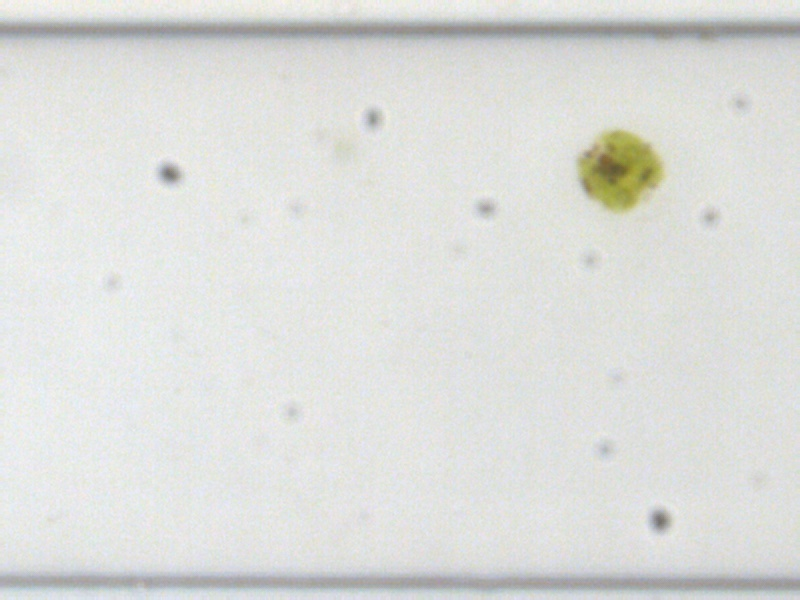Haematococcus: (572, 124, 664, 212)
